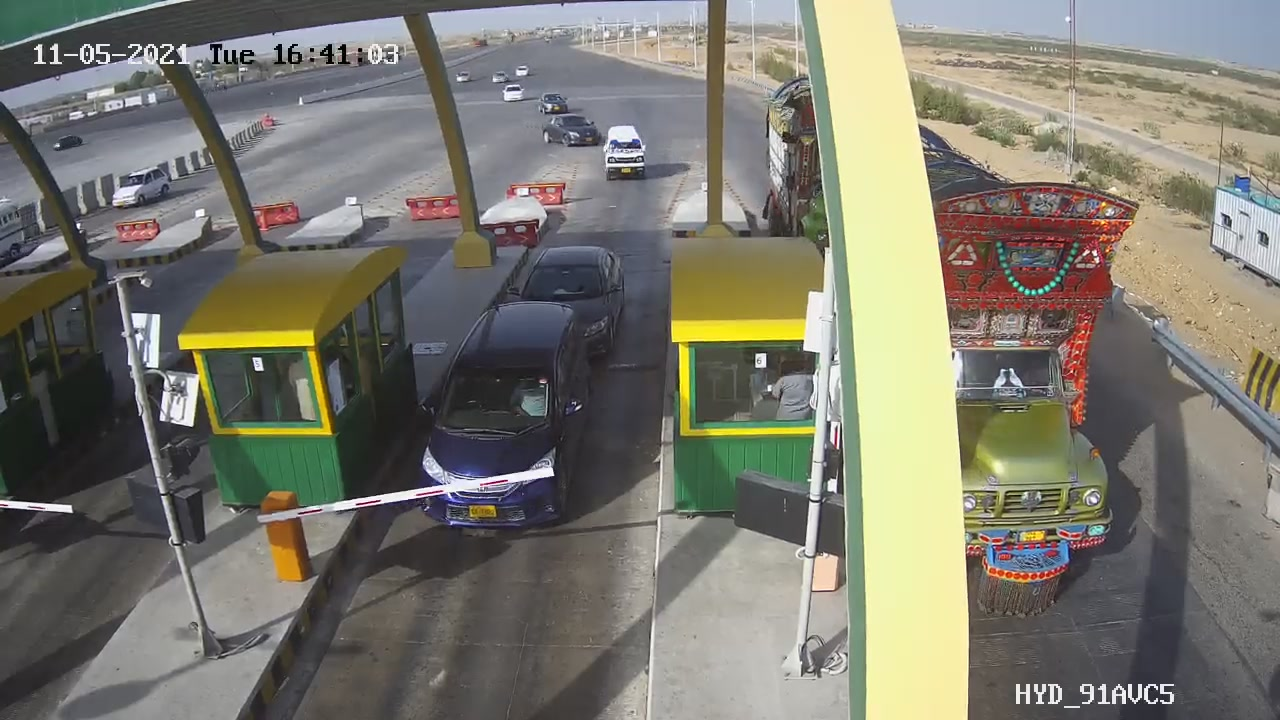F1: (401, 285, 614, 553)
